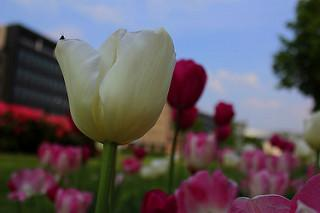tulip: (57, 27, 175, 145)
